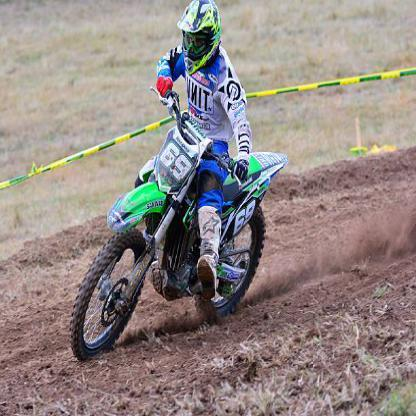Motorcycle: (67, 100, 276, 358)
